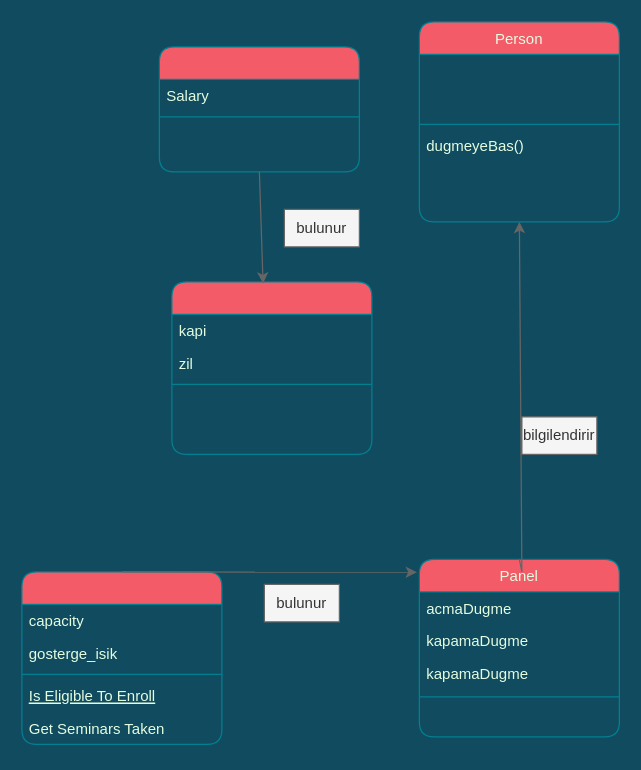
The diagram is 641 pixels wide and 770 high, and some of its shapes have lost their labels. Each missing label, with the box of its shape:
Asansör: (21, 571, 222, 744)
Kat: (171, 281, 372, 454)
Kodluyoruz Şirketi: (158, 46, 359, 172)
